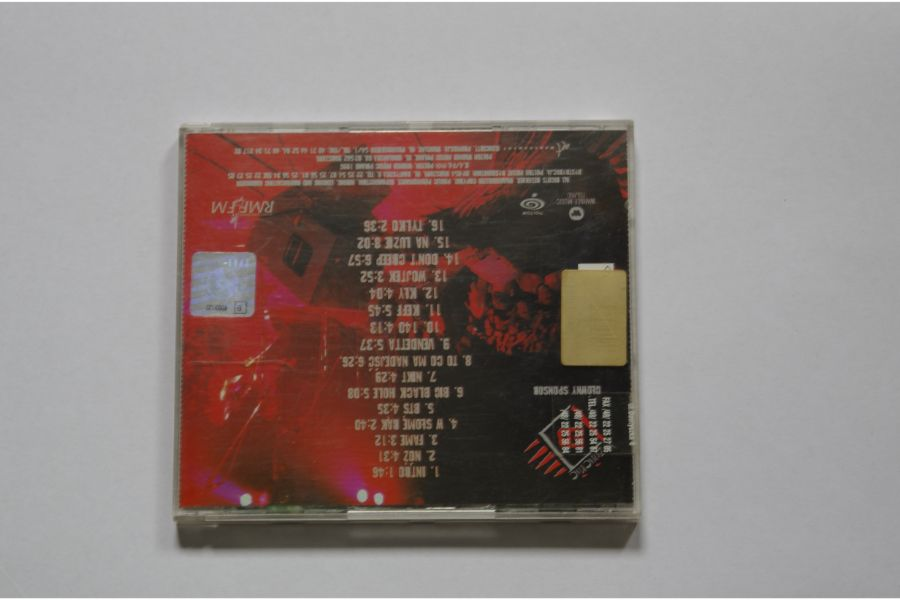album: (172, 121, 643, 521)
